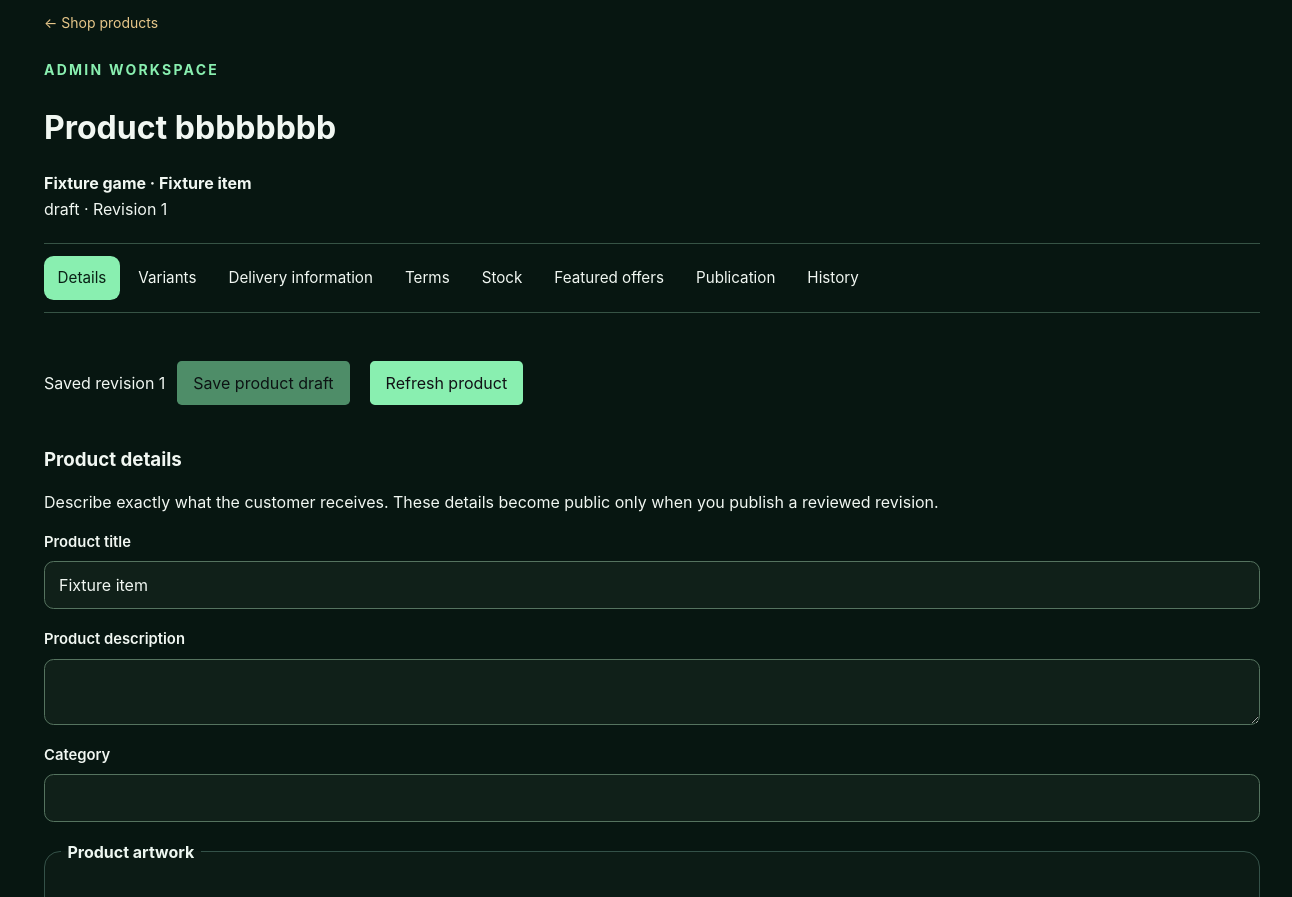
it: clears private drafts immediately when a write denies access
Replace the text in the field labelled "Product title" with "Do not retain" at (652, 585), box [44, 561, 1260, 609]
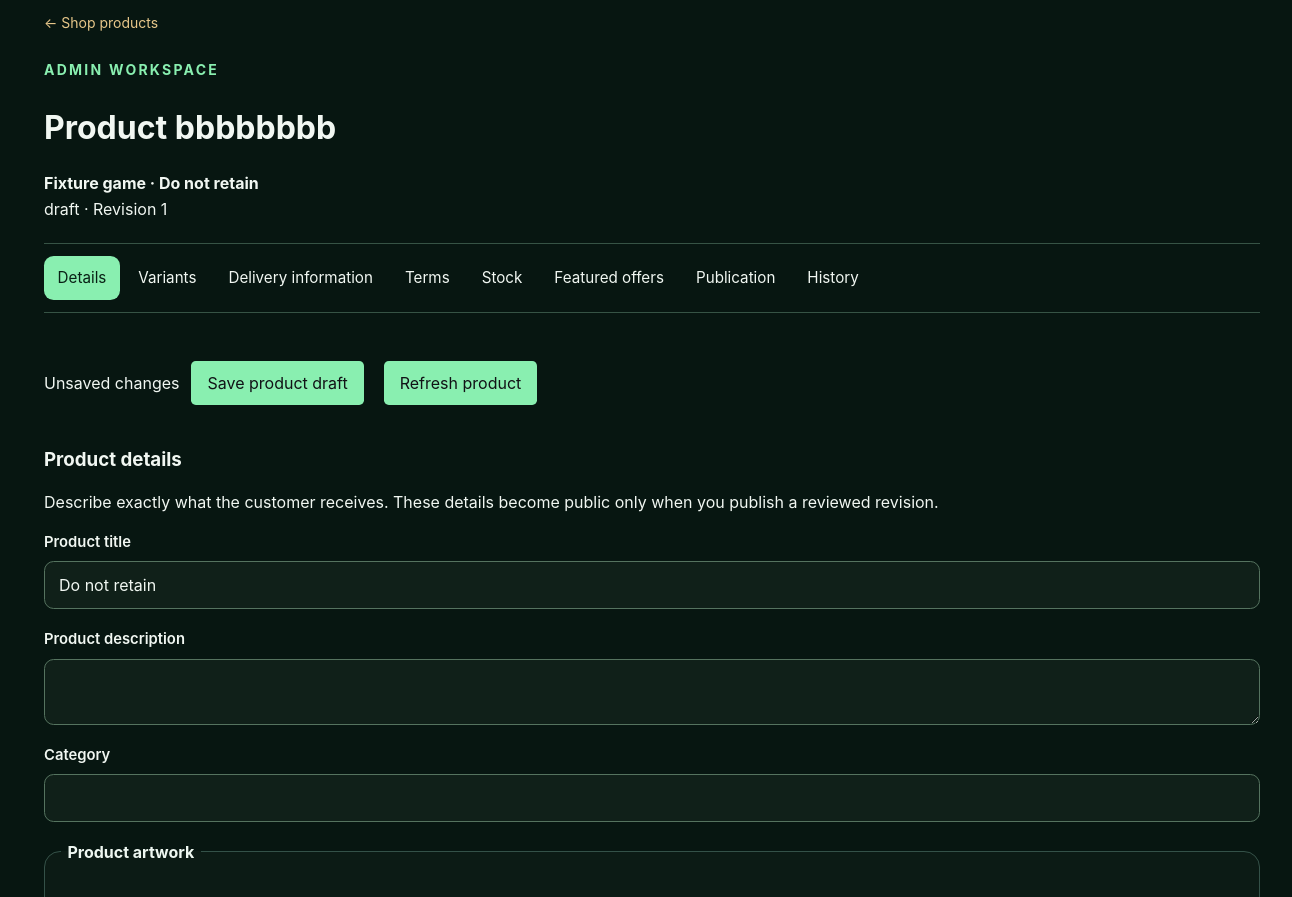
Click the button "Save product draft" at (278, 383), box [192, 361, 364, 405]
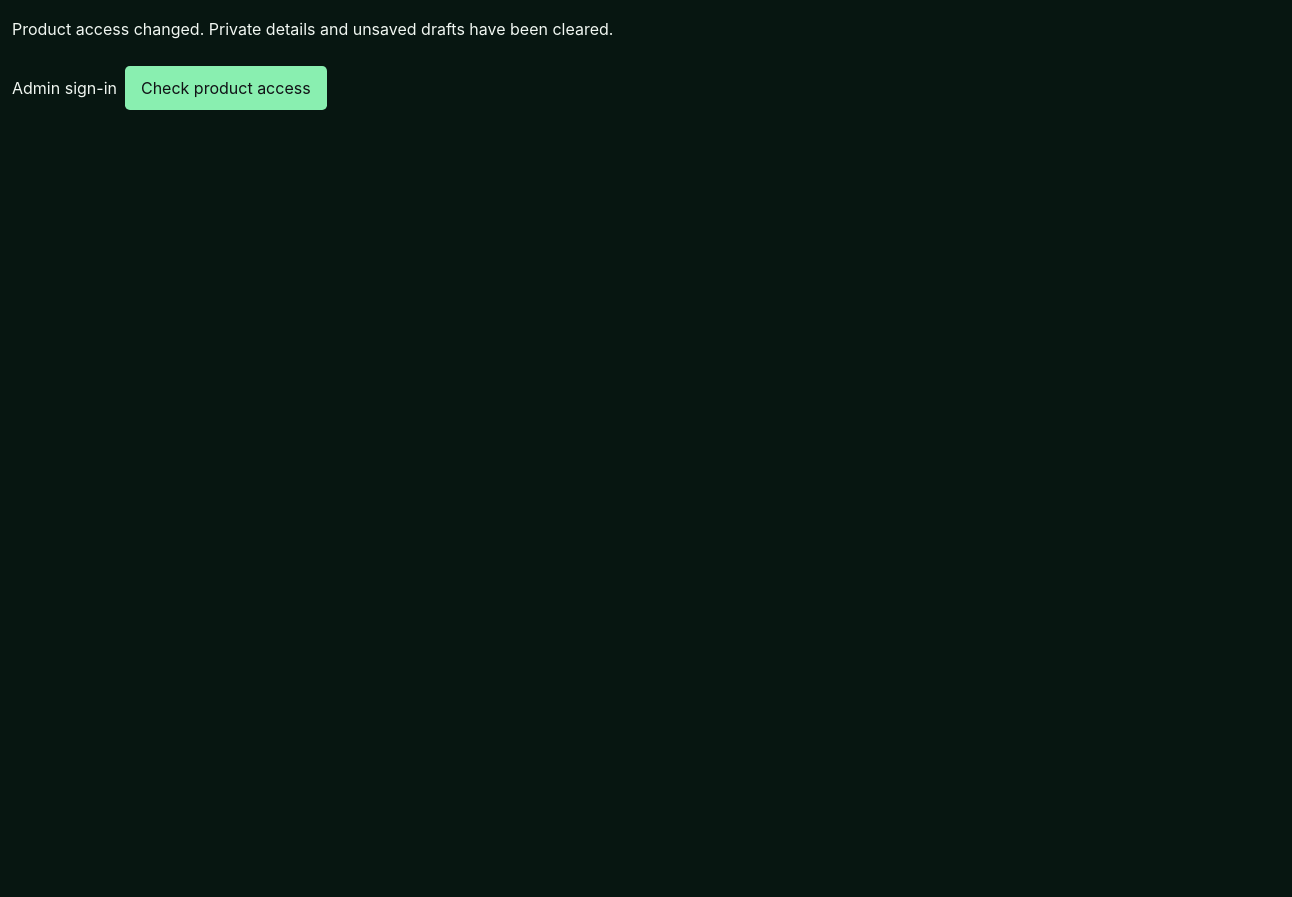
Now the text "Product access changed" is shown, box [12, 19, 613, 39]
Now the text showing "Do not retain" is gone
